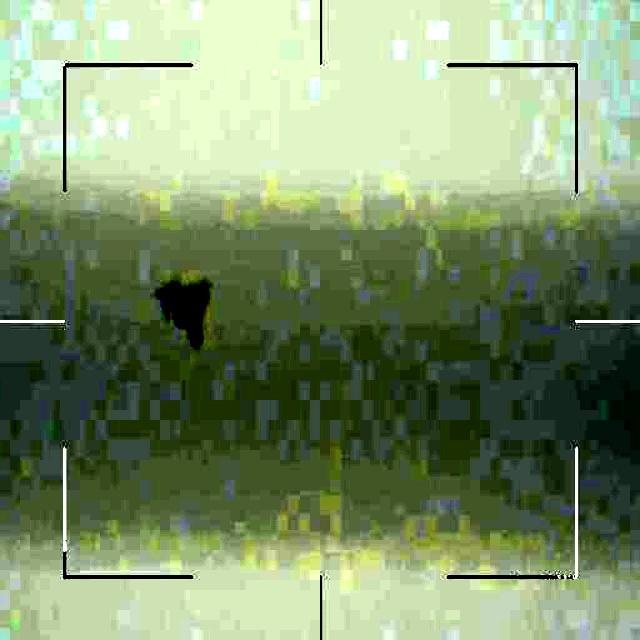bird: (150, 271, 220, 351)
